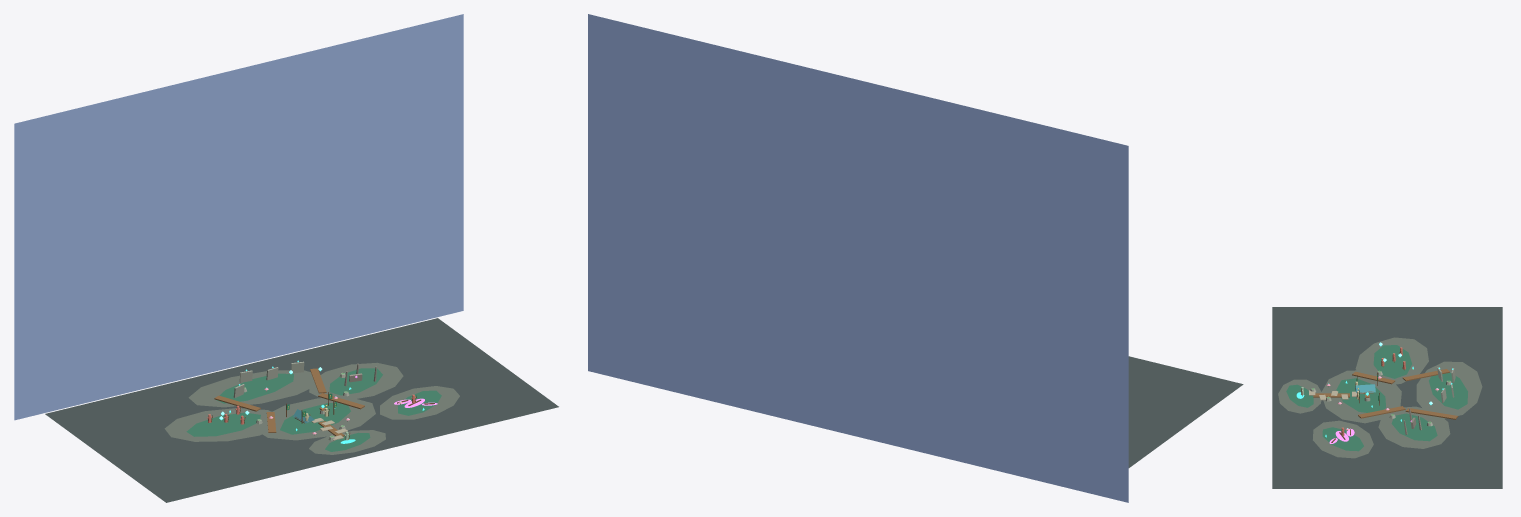
File: memory_wastes_v001.glb
3 renders of one model, left to right at view 1: azimuth 30°, elevation 25°; view 2: azimuth 150°, elevation 25°; view 3: azimuth 270°, elevation 25°, orthographic. The views are drawn at different scales.
Parts seen in each view (by area): view 1: WASTE_Terrain_Backdrop_MemoryStormSky, WASTE_Terrain_DarkVoidBase_NoWalk, WASTE_Terrain_CentralCampIsland_FragmentedPlate, WASTE_Terrain_FloatingArchiveRuinIsland_FragmentedPlate, WASTE_Terrain_EchoBattlefieldIsland_FragmentedPlate, WASTE_Terrain_DeadGodShrineIsland_FragmentedPlate, WASTE_Terrain_RootRiftIsland_FragmentedPlate, WASTE_Terrain_CentralCampIsland_MossMemorySkin, WASTE_Terrain_EchoBattlefieldIsland_MossMemorySkin, WASTE_Terrain_FloatingArchiveRuinIsland_MossMemorySkin, WASTE_Terrain_DeadGodShrineIsland_MossMemorySkin, WASTE_Terrain_PlayerIsland_FragmentedPlate; view 2: WASTE_Terrain_Backdrop_MemoryStormSky, WASTE_Terrain_DarkVoidBase_NoWalk; view 3: WASTE_Terrain_DarkVoidBase_NoWalk, WASTE_Terrain_FloatingArchiveRuinIsland_FragmentedPlate, WASTE_Terrain_CentralCampIsland_FragmentedPlate, WASTE_Terrain_EchoBattlefieldIsland_FragmentedPlate, WASTE_Terrain_DeadGodShrineIsland_FragmentedPlate, WASTE_Terrain_RootRiftIsland_FragmentedPlate, WASTE_Terrain_CentralCampIsland_MossMemorySkin, WASTE_Terrain_EchoBattlefieldIsland_MossMemorySkin, WASTE_Terrain_FloatingArchiveRuinIsland_MossMemorySkin, WASTE_Terrain_DeadGodShrineIsland_MossMemorySkin, WASTE_Terrain_PlayerIsland_FragmentedPlate, WASTE_Terrain_RootRiftIsland_MossMemorySkin (+1 smaller).
Boxes of the visible parts, x1,y1,x2,y2 form: WASTE_Terrain_Backdrop_MemoryStormSky: [14, 14, 463, 420]; WASTE_Terrain_DarkVoidBase_NoWalk: [45, 318, 558, 502]; WASTE_Terrain_CentralCampIsland_FragmentedPlate: [255, 398, 375, 440]; WASTE_Terrain_FloatingArchiveRuinIsland_FragmentedPlate: [188, 370, 320, 407]; WASTE_Terrain_EchoBattlefieldIsland_FragmentedPlate: [164, 408, 283, 441]; WASTE_Terrain_DeadGodShrineIsland_FragmentedPlate: [309, 362, 403, 400]; WASTE_Terrain_RootRiftIsland_FragmentedPlate: [380, 386, 459, 419]; WASTE_Terrain_CentralCampIsland_MossMemorySkin: [280, 403, 350, 434]; WASTE_Terrain_EchoBattlefieldIsland_MossMemorySkin: [186, 412, 260, 436]; WASTE_Terrain_FloatingArchiveRuinIsland_MossMemorySkin: [216, 373, 293, 403]; WASTE_Terrain_DeadGodShrineIsland_MossMemorySkin: [329, 368, 382, 395]; WASTE_Terrain_PlayerIsland_FragmentedPlate: [309, 430, 385, 454]; WASTE_Terrain_Backdrop_MemoryStormSky: [588, 14, 1128, 502]; WASTE_Terrain_DarkVoidBase_NoWalk: [1128, 356, 1243, 467]; WASTE_Terrain_DarkVoidBase_NoWalk: [1272, 307, 1502, 488]; WASTE_Terrain_FloatingArchiveRuinIsland_FragmentedPlate: [1416, 361, 1482, 418]; WASTE_Terrain_CentralCampIsland_FragmentedPlate: [1322, 370, 1401, 423]; WASTE_Terrain_EchoBattlefieldIsland_FragmentedPlate: [1355, 337, 1428, 384]; WASTE_Terrain_DeadGodShrineIsland_FragmentedPlate: [1378, 406, 1450, 448]; WASTE_Terrain_RootRiftIsland_FragmentedPlate: [1313, 420, 1373, 458]; WASTE_Terrain_CentralCampIsland_MossMemorySkin: [1336, 378, 1386, 412]; WASTE_Terrain_EchoBattlefieldIsland_MossMemorySkin: [1373, 345, 1411, 378]; WASTE_Terrain_FloatingArchiveRuinIsland_MossMemorySkin: [1429, 372, 1467, 409]; WASTE_Terrain_DeadGodShrineIsland_MossMemorySkin: [1391, 413, 1437, 441]; WASTE_Terrain_PlayerIsland_FragmentedPlate: [1278, 379, 1321, 413]; WASTE_Terrain_RootRiftIsland_MossMemorySkin: [1322, 427, 1363, 451].
Bounding box in the file's own units: 96 × 60.6 × 45.8.
